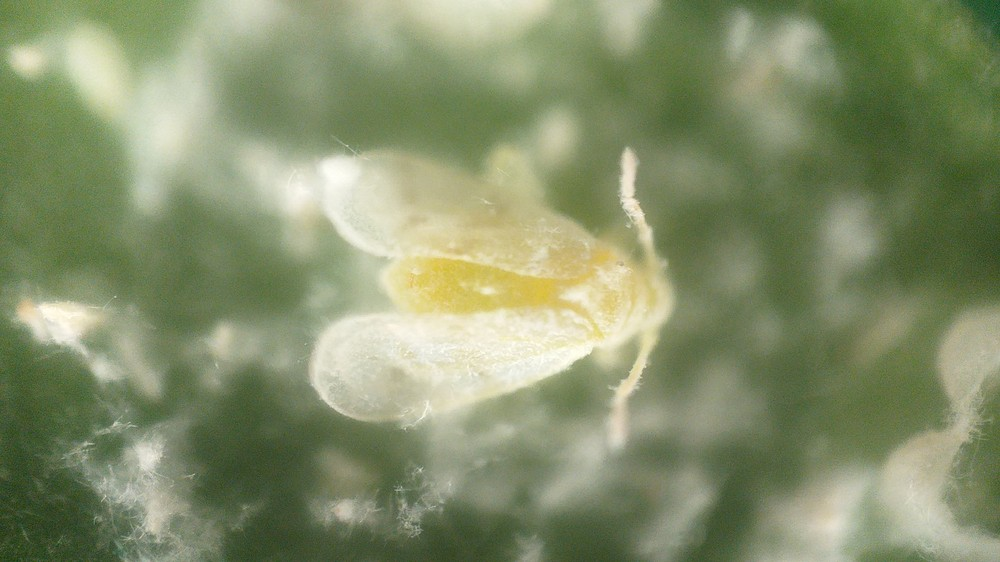Mosca Blanca: (279, 119, 690, 471)
